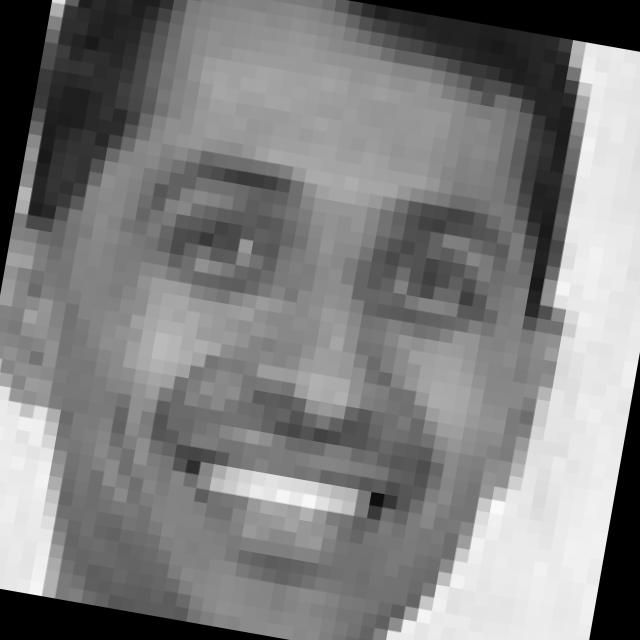happy: (66, 136, 526, 603)
